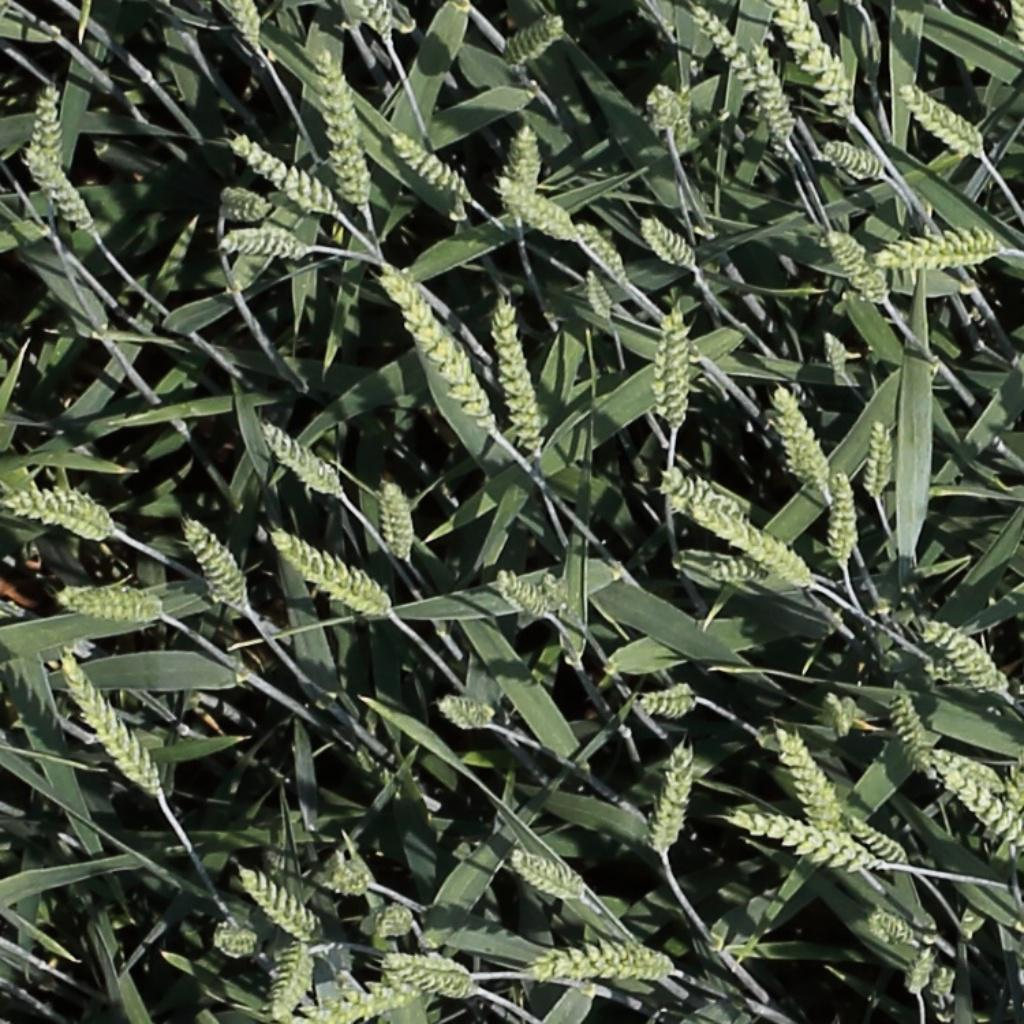0-0: (662, 468, 822, 591), (386, 273, 496, 424), (55, 653, 165, 801), (274, 531, 390, 618), (779, 0, 862, 121), (314, 43, 372, 212), (776, 724, 850, 841), (492, 299, 544, 461), (232, 132, 337, 212), (735, 815, 875, 875), (689, 0, 770, 98), (21, 141, 99, 234), (771, 386, 836, 495), (921, 619, 1010, 696), (300, 970, 426, 1024), (880, 217, 999, 274), (181, 514, 251, 610), (942, 774, 1024, 855), (259, 420, 344, 498), (238, 869, 322, 943), (901, 80, 985, 152), (533, 935, 678, 976), (391, 128, 473, 200), (651, 742, 696, 862), (827, 223, 892, 303), (499, 177, 580, 241), (57, 580, 163, 628), (752, 40, 797, 146), (260, 936, 316, 1021), (891, 678, 936, 779), (2, 492, 111, 533), (651, 308, 688, 426), (574, 215, 633, 285), (216, 222, 323, 260), (512, 851, 585, 902), (641, 211, 700, 270), (382, 954, 469, 993), (846, 815, 910, 868), (929, 750, 1006, 794), (379, 473, 415, 566), (503, 15, 566, 66), (32, 77, 65, 173), (640, 670, 709, 714), (496, 569, 554, 619), (368, 897, 430, 943), (315, 851, 373, 897), (834, 465, 857, 573), (582, 262, 619, 327), (208, 915, 259, 961), (819, 322, 856, 385), (823, 139, 888, 174), (907, 943, 942, 1005), (868, 413, 892, 503), (821, 688, 856, 746), (357, 0, 398, 49), (517, 116, 542, 196), (229, 0, 267, 51), (218, 189, 267, 227), (648, 77, 679, 136), (869, 913, 920, 946), (703, 560, 767, 586), (1001, 746, 1024, 817), (439, 699, 492, 729), (933, 967, 962, 1005)
